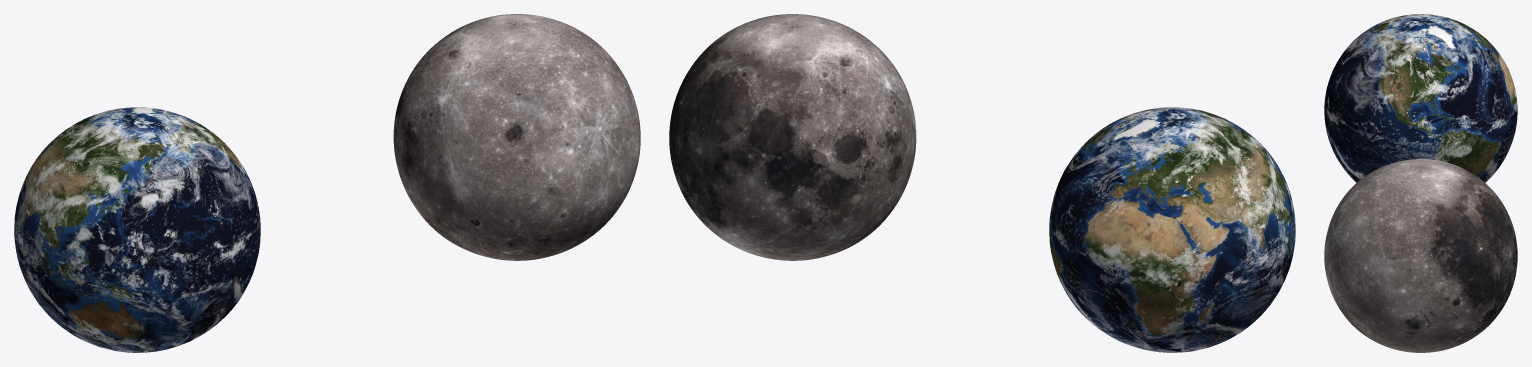
File: Moon_Earth.glb
3 renders of one model, left to right at view 1: azimuth 30°, elevation 25°; view 2: azimuth 150°, elevation 25°; view 3: azimuth 270°, elevation 25°, orthographic. The views are drawn at different scales.
Parts seen in each view (by area): view 1: Moon, Earth; view 2: Moon, Earth; view 3: Moon, Earth.
Part boxes in pixels (bbox=[...]): Moon: bbox=[393, 14, 640, 260]; Earth: bbox=[14, 107, 260, 352]; Moon: bbox=[669, 14, 916, 260]; Earth: bbox=[1049, 107, 1295, 352]; Moon: bbox=[1324, 159, 1517, 352]; Earth: bbox=[1324, 14, 1517, 182].
Bounding box in the file's own units: 18.74 × 6.74 × 6.74.
2 materials, 2 textured.
